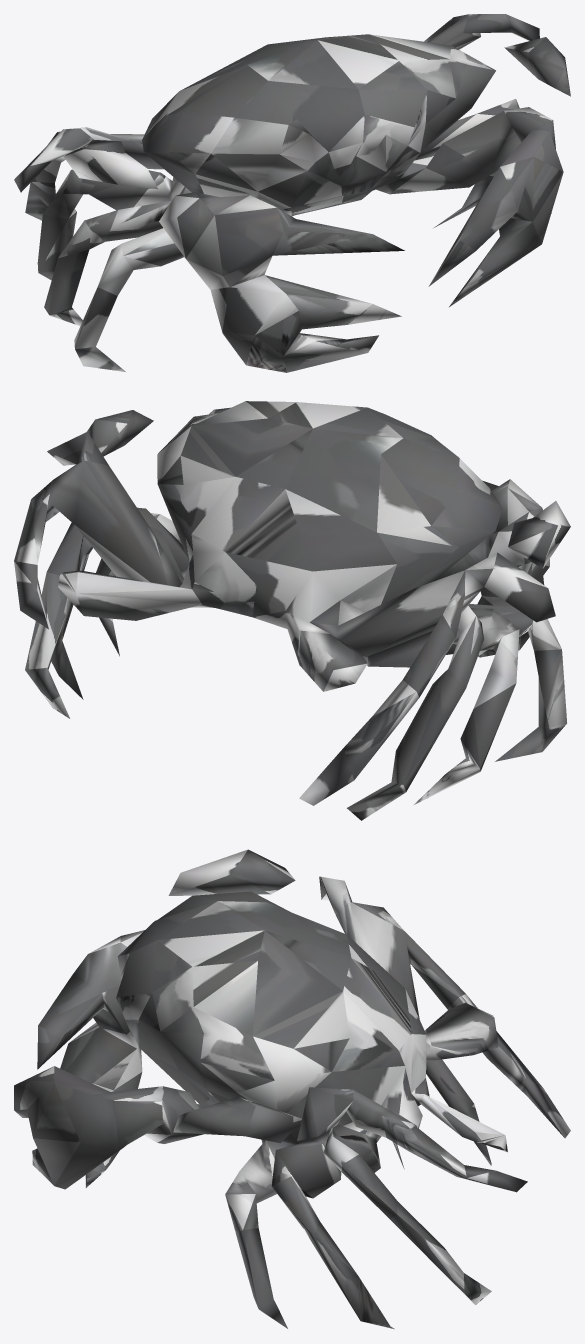
The model's file is cangrejo.fbx.
3 renders of one model, top to bottom at view 1: azimuth 30°, elevation 25°; view 2: azimuth 150°, elevation 25°; view 3: azimuth 270°, elevation 25°, orthographic. The views are drawn at different scales.
Parts seen in each view (by area): view 1: temp; view 2: temp; view 3: temp.
Part boxes in pixels (x1=…): temp: x1=14, y1=14, x2=570, y2=372; temp: x1=14, y1=401, x2=570, y2=820; temp: x1=14, y1=849, x2=570, y2=1329.
Size of the model in its own units: 198 by 108 by 166.
